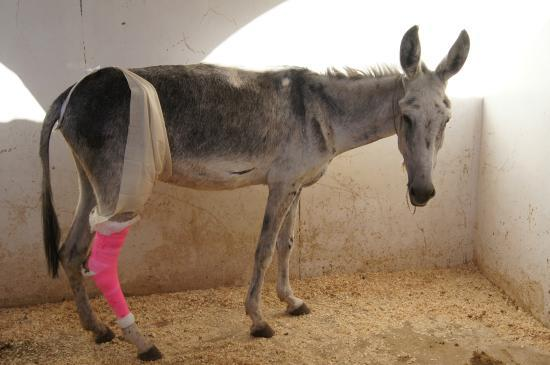fracture: (33, 198, 166, 345)
